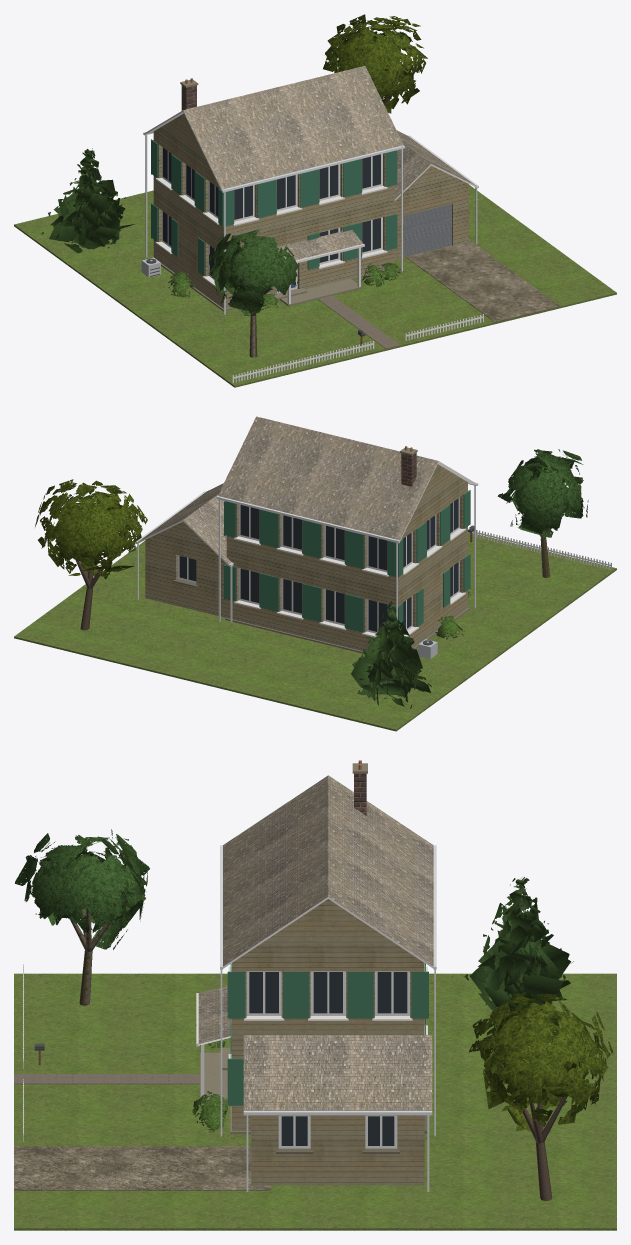
File: house_gable_yellow.glb
The picture shows the model from 3 angles, top to bottom: view 1: azimuth 30°, elevation 25°; view 2: azimuth 150°, elevation 25°; view 3: azimuth 270°, elevation 25°; orthographic projection. The views are drawn at different scales.
Visible parts, largest first — view 1: house_gable_yellow_body, house_gable_yellow_foliage; view 2: house_gable_yellow_body, house_gable_yellow_foliage; view 3: house_gable_yellow_body, house_gable_yellow_foliage.
Part boxes in pixels (box(x1,y1,x2,y2)): house_gable_yellow_body: box(14, 66, 616, 387); house_gable_yellow_foliage: box(41, 14, 427, 315); house_gable_yellow_body: box(14, 416, 616, 731); house_gable_yellow_foliage: box(35, 449, 588, 708); house_gable_yellow_body: box(14, 760, 616, 1230); house_gable_yellow_foliage: box(15, 829, 612, 1132).
Size of the model in its own units: 0.94 by 0.4611 by 0.94.
Materials: 27 (16 with a texture image).
